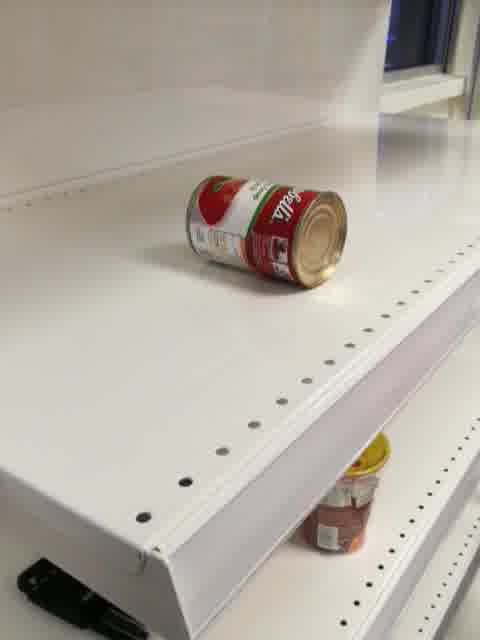tomatosoup: (185, 175, 347, 292)
